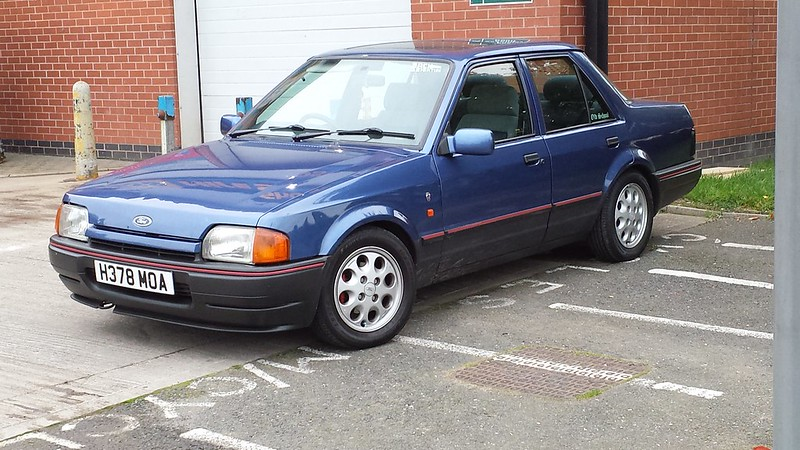number_plate: (75, 255, 199, 300)
